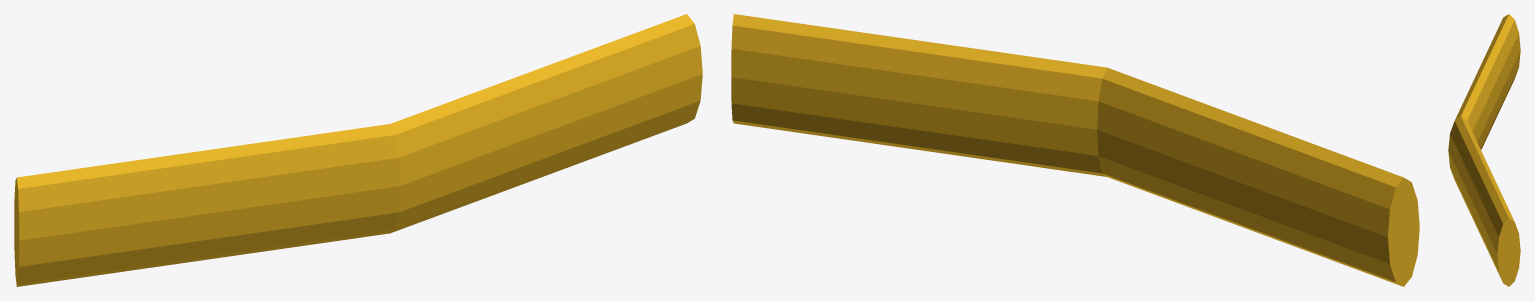
The model's file is Ring Door.fbx.
3 renders of one model, left to right at view 1: azimuth 30°, elevation 25°; view 2: azimuth 150°, elevation 25°; view 3: azimuth 270°, elevation 25°, orthographic. The views are drawn at different scales.
Parts seen in each view (by area): view 1: RingDoor; view 2: RingDoor; view 3: RingDoor.
Part boxes in pixels (bbox=[...]): RingDoor: bbox=[14, 14, 702, 286]; RingDoor: bbox=[731, 14, 1419, 286]; RingDoor: bbox=[1448, 14, 1520, 286].
Size of the model in its own units: 392 by 60 by 57.45.
